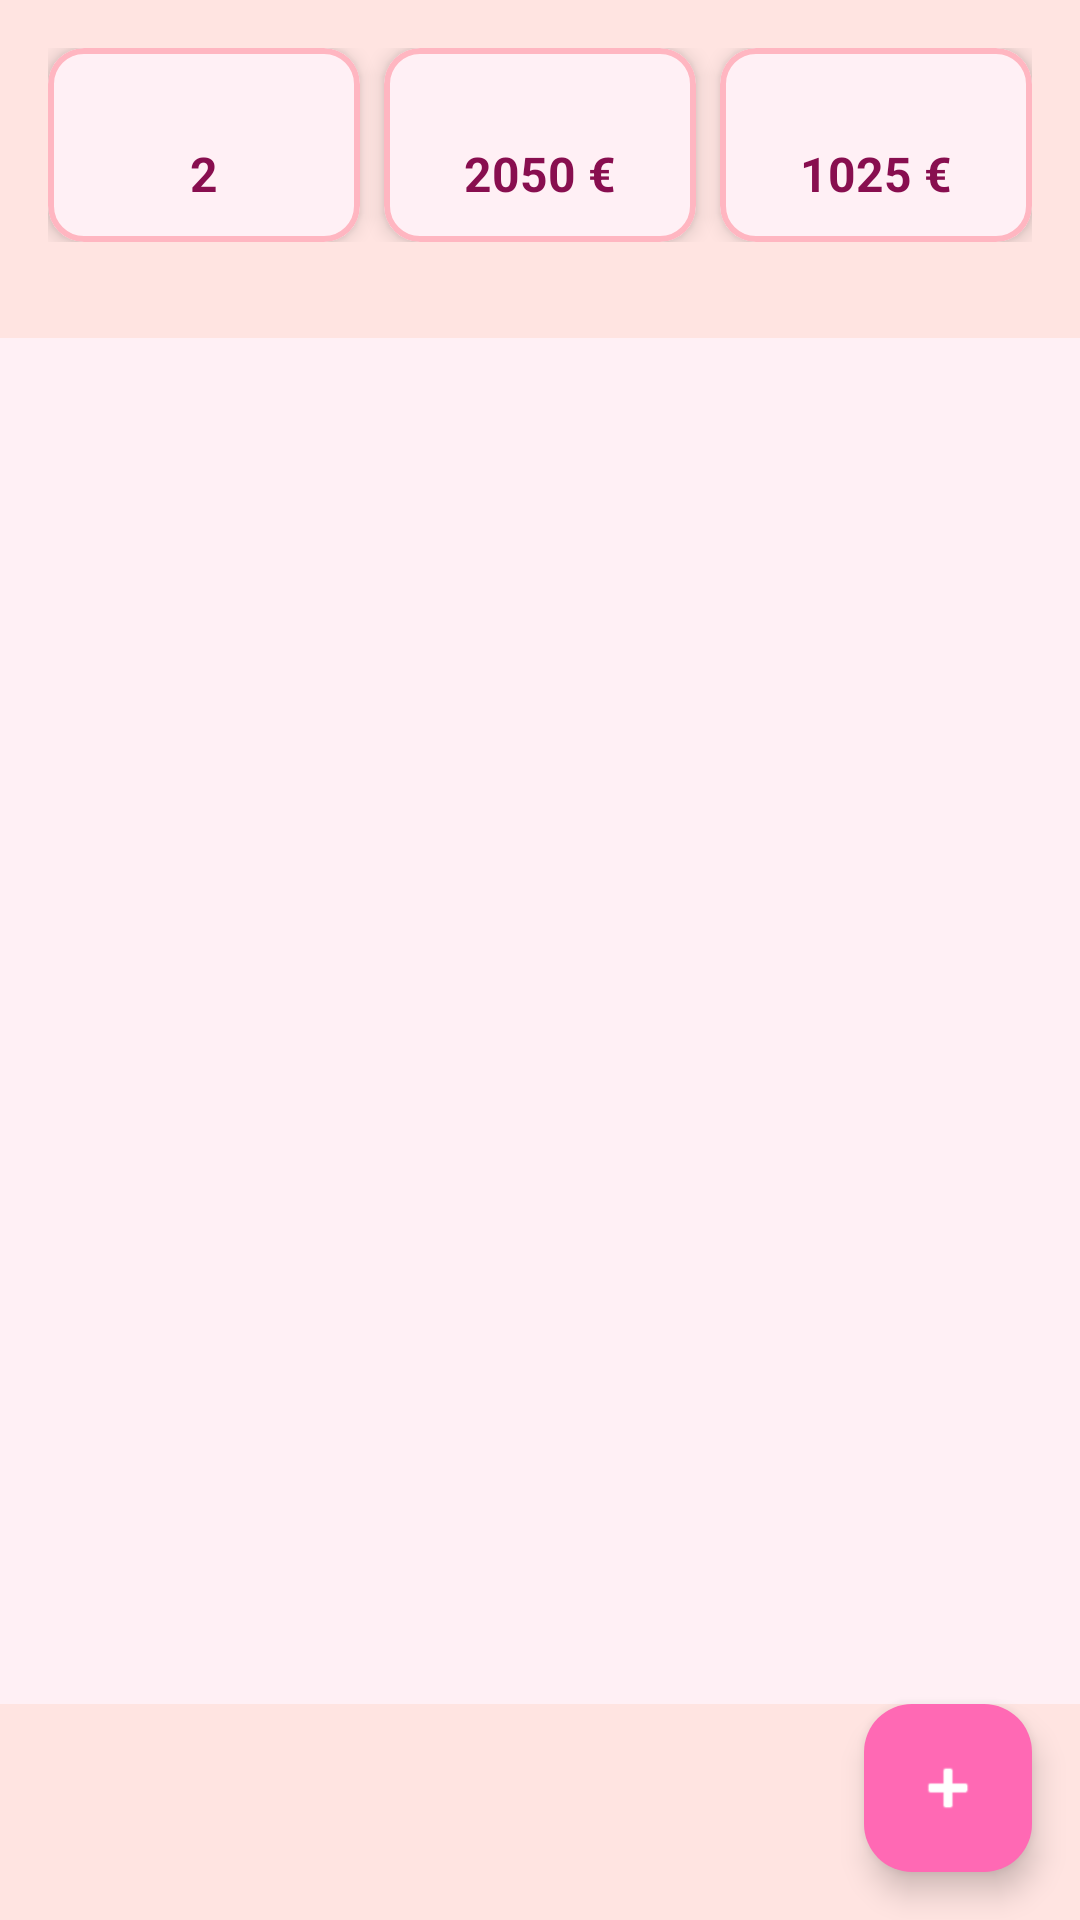

Where to tap for icons on this 1080w x 1920h app screen, as (x,y):
Add Account: (948,1788)
